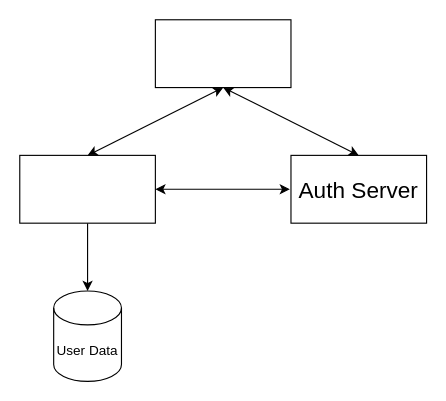
Image size: 446x401. Some labels were removed from this diagram. Here are the shapes that lost their labels. From the top down, the centre of each, then its label:
point 222,53: Client
point 87,188: Manager Server
